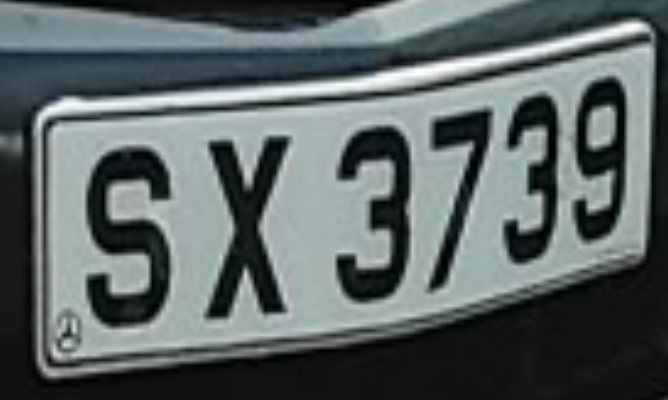3: (322, 107, 426, 328), (499, 61, 566, 284)
7: (423, 82, 502, 305)
9: (566, 51, 634, 256)
S: (71, 136, 180, 345)
X: (198, 120, 318, 339)
